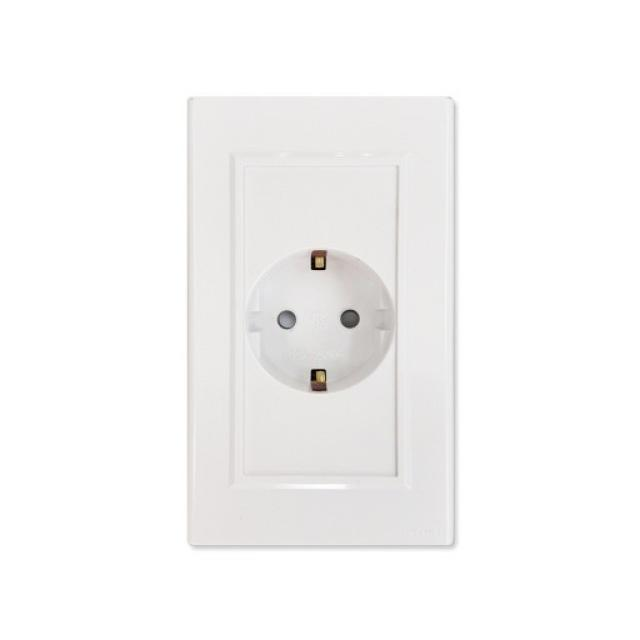typeb: (118, 47, 529, 602)
